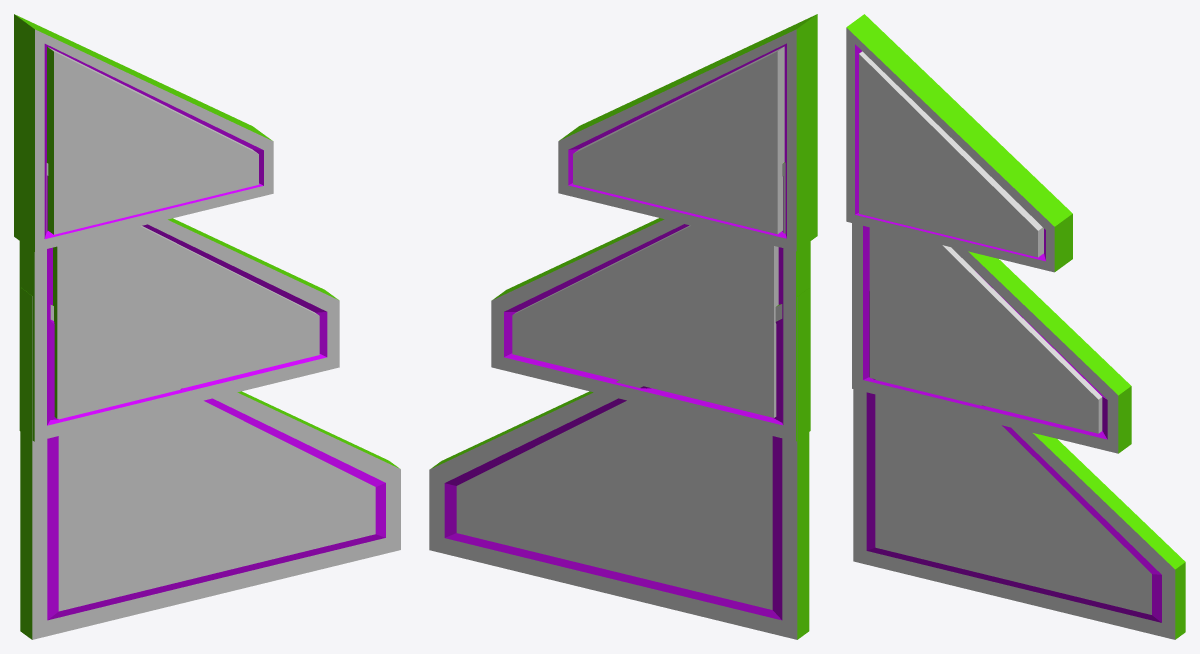
The model's file is üstk_lv10.fbx.
3 views of the same model, side by side, from view 1: azimuth 30°, elevation 25°; view 2: azimuth 150°, elevation 25°; view 3: azimuth 330°, elevation 25° (orthographic). The views are drawn at different scales.
Parts seen in each view (by area): view 1: üstk_lv10; view 2: üstk_lv10; view 3: üstk_lv10.
Boxes of the visible parts, <box> form: üstk_lv10: <box>14,14,400,639</box>; üstk_lv10: <box>429,14,817,639</box>; üstk_lv10: <box>846,14,1185,639</box>.
Bounding box in the file's own units: 75.03 × 119 × 8.84.
